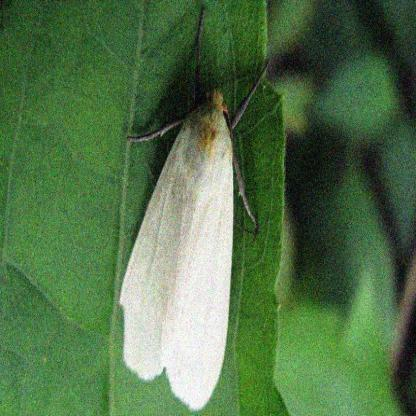whitefly: (119, 91, 235, 414)
